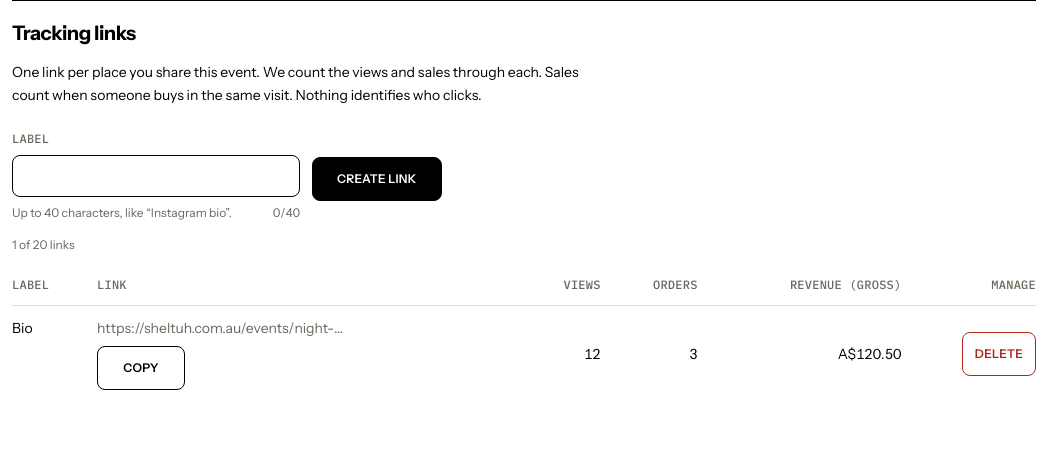
Test: TrackingLinks › when copying fails, selects the link for copying by hand
Step 1. Click the button named "Copy link for Bio" → [141, 368], box [97, 346, 185, 390]
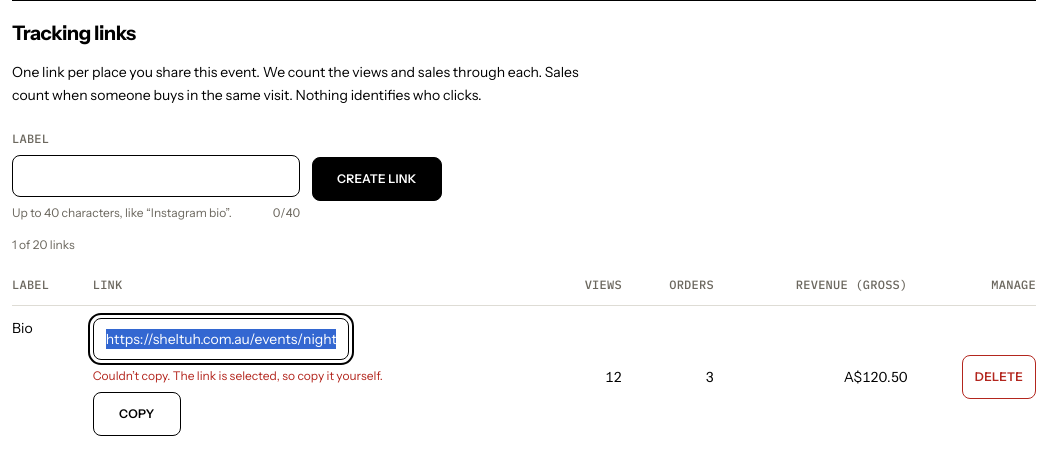
Expected: the text "Couldn’t copy. The link is selected, so copy it yourself." is shown, [93, 368, 383, 384]
